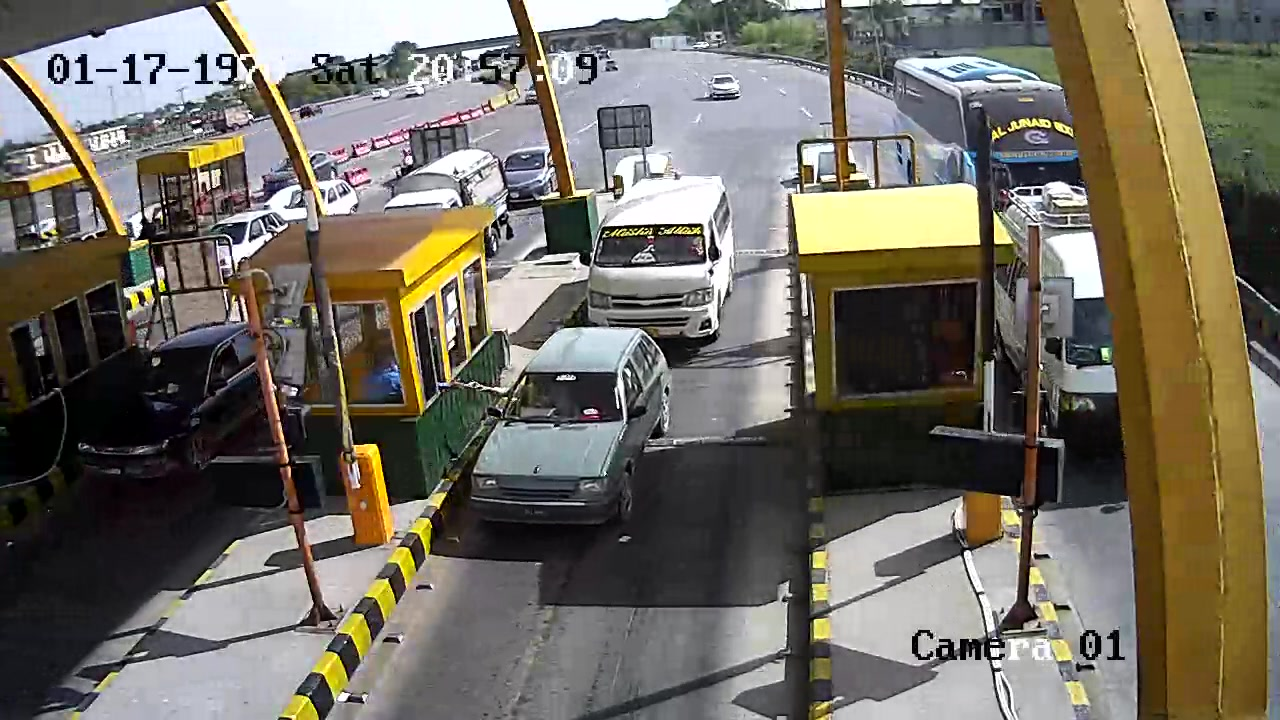F1: (464, 328, 676, 541)
